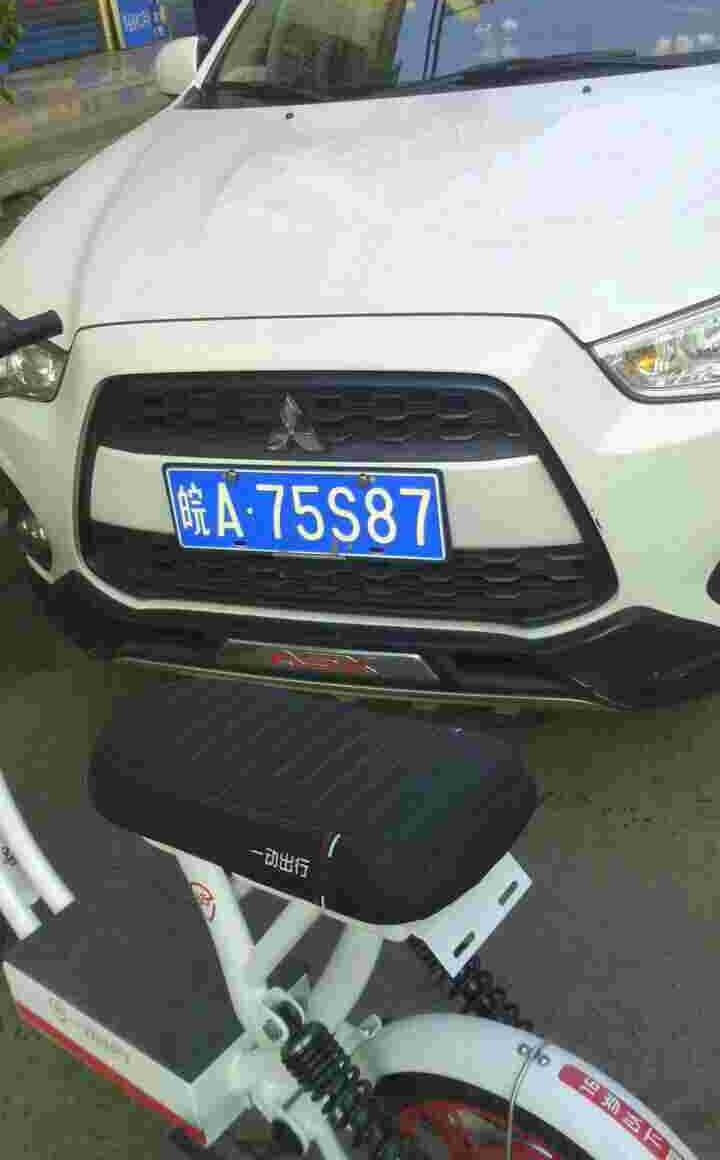license_plate: (176, 465, 439, 563)
